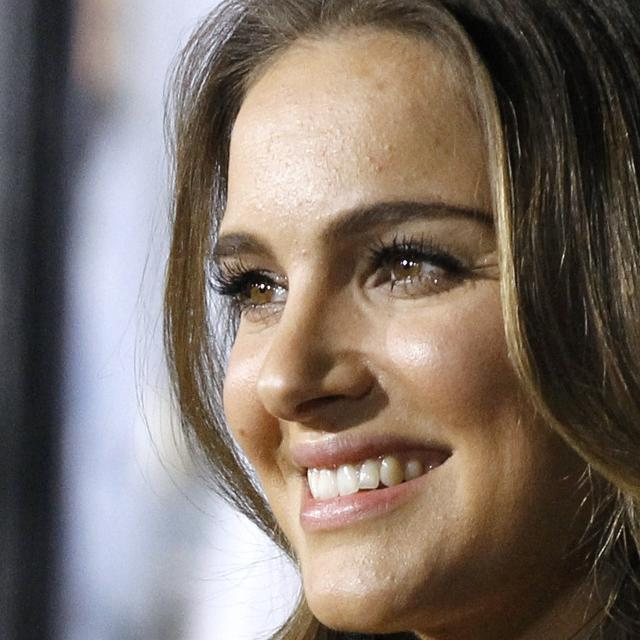Normal: (211, 29, 592, 627)
